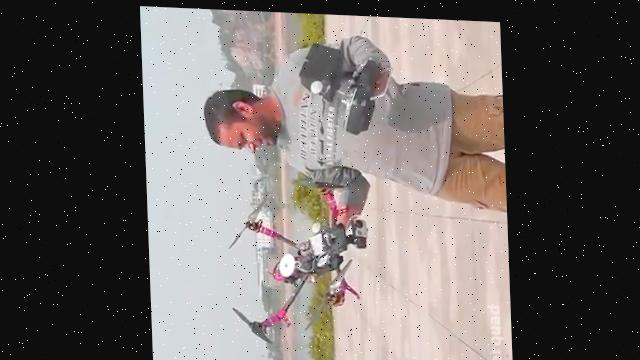drone: (221, 171, 372, 349)
